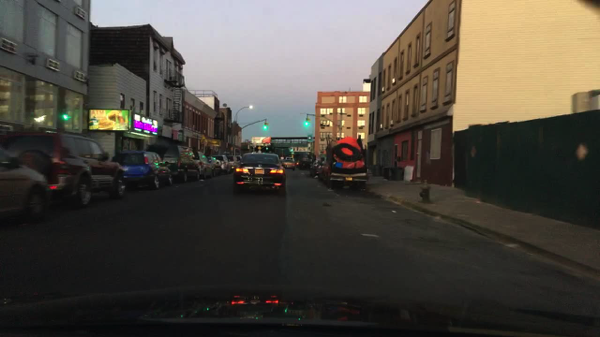car: (0, 130, 127, 208), (0, 144, 52, 225), (110, 148, 173, 188), (232, 152, 286, 198), (148, 146, 203, 183), (193, 151, 214, 177), (211, 155, 231, 171), (206, 159, 224, 176), (312, 158, 326, 177), (297, 157, 312, 170), (227, 156, 236, 173), (283, 160, 296, 171), (233, 156, 243, 166)
traffic light: (62, 108, 67, 121), (263, 119, 267, 131), (305, 116, 309, 127), (289, 147, 294, 154), (264, 146, 269, 151)
truck: (325, 134, 369, 191)
